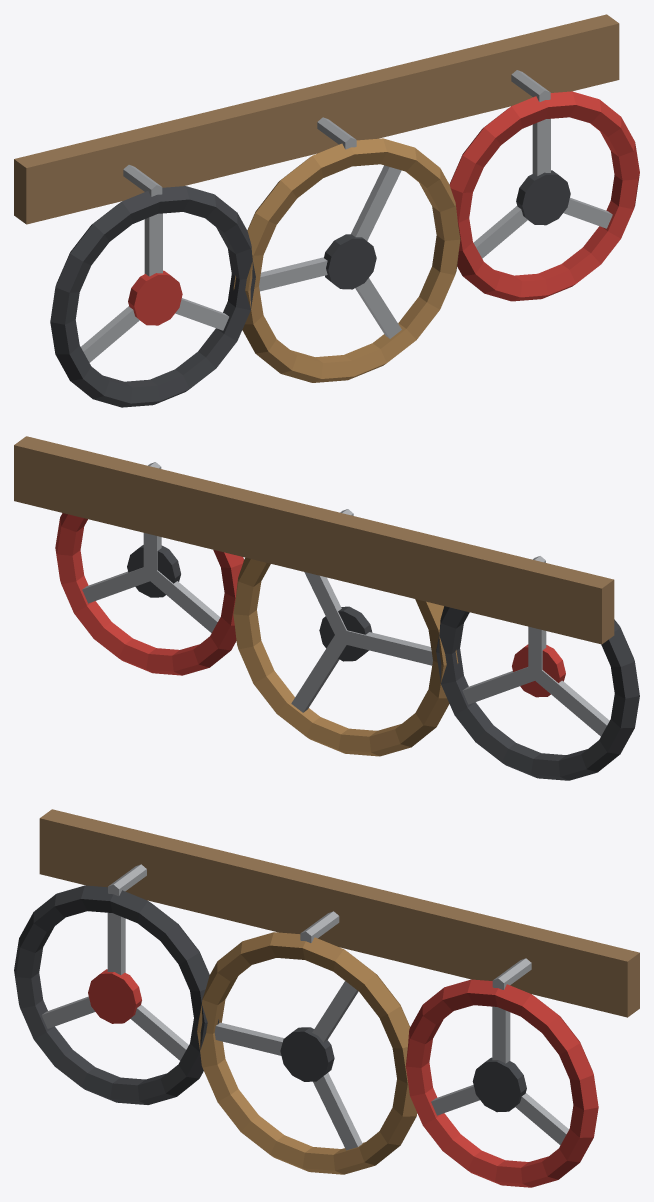
Rendered from steering_rack.glb.
3 renders of one model, top to bottom at view 1: azimuth 30°, elevation 25°; view 2: azimuth 150°, elevation 25°; view 3: azimuth 330°, elevation 25°, orthographic.
Visible parts, largest first — view 1: steering_rack; view 2: steering_rack; view 3: steering_rack.
Boxes of the visible parts, <box> form: steering_rack: <box>14,14,639,407</box>; steering_rack: <box>14,436,639,780</box>; steering_rack: <box>14,809,639,1187</box>.
Bounding box in the file's own units: 1.1 × 0.472 × 0.1409.
